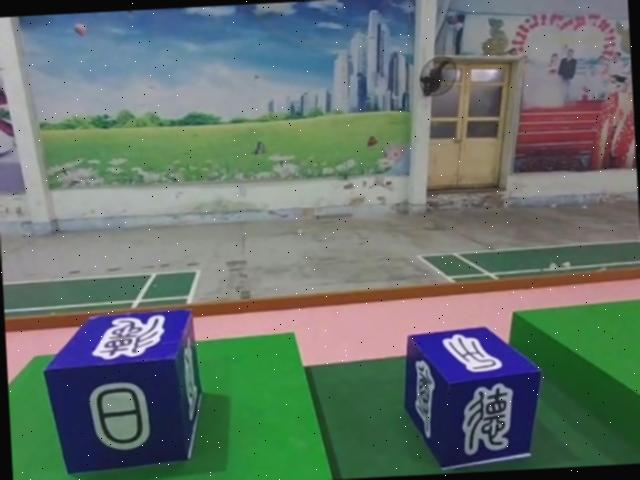R2 Fake Blue: (41, 310, 205, 474), (400, 323, 546, 471)
